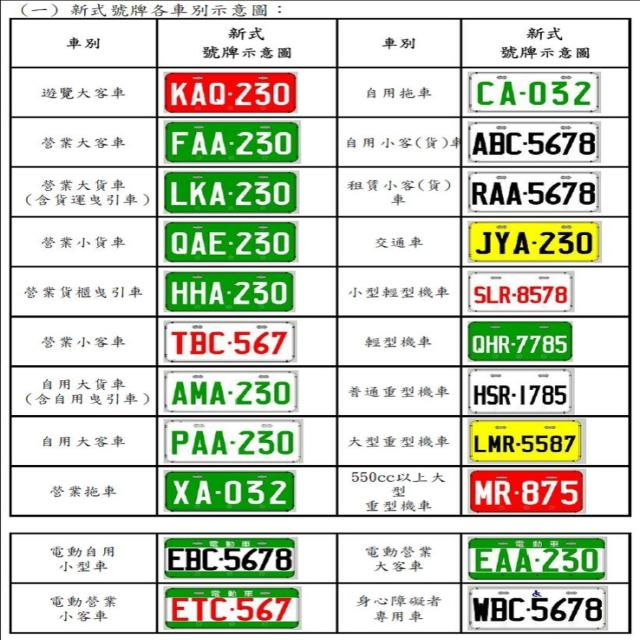GW: (165, 172, 297, 213), (164, 471, 294, 512), (165, 122, 298, 162), (165, 222, 296, 262), (165, 272, 293, 312), (467, 321, 571, 361)
RW: (165, 72, 296, 113), (469, 470, 583, 513)
W: (468, 586, 606, 629), (467, 171, 600, 213), (167, 538, 296, 578), (468, 123, 599, 162), (468, 369, 571, 413)
WG: (165, 420, 302, 463), (468, 538, 606, 579), (468, 72, 600, 113), (165, 371, 297, 411)
WR: (165, 321, 295, 362), (166, 589, 299, 629), (468, 271, 573, 311)
Y: (468, 221, 600, 262), (469, 419, 581, 462)
